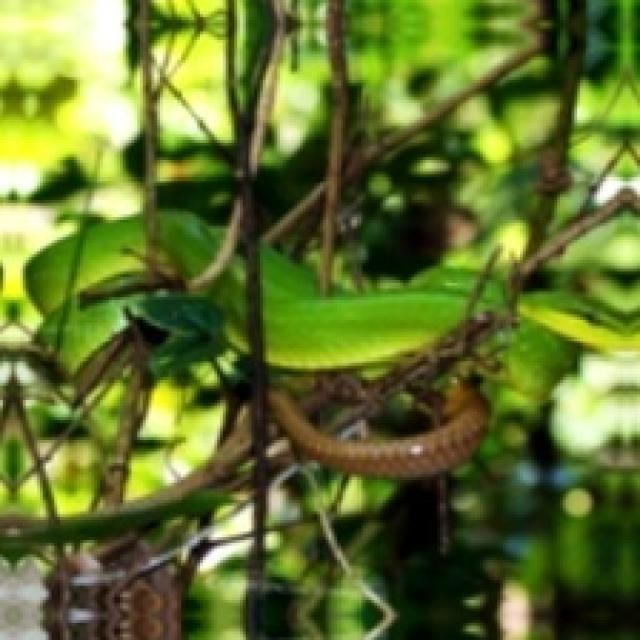red-tailed green ratsnake: (262, 246, 466, 370), (269, 383, 486, 477), (26, 216, 144, 371), (519, 291, 640, 351), (159, 211, 220, 279), (210, 259, 246, 349)
